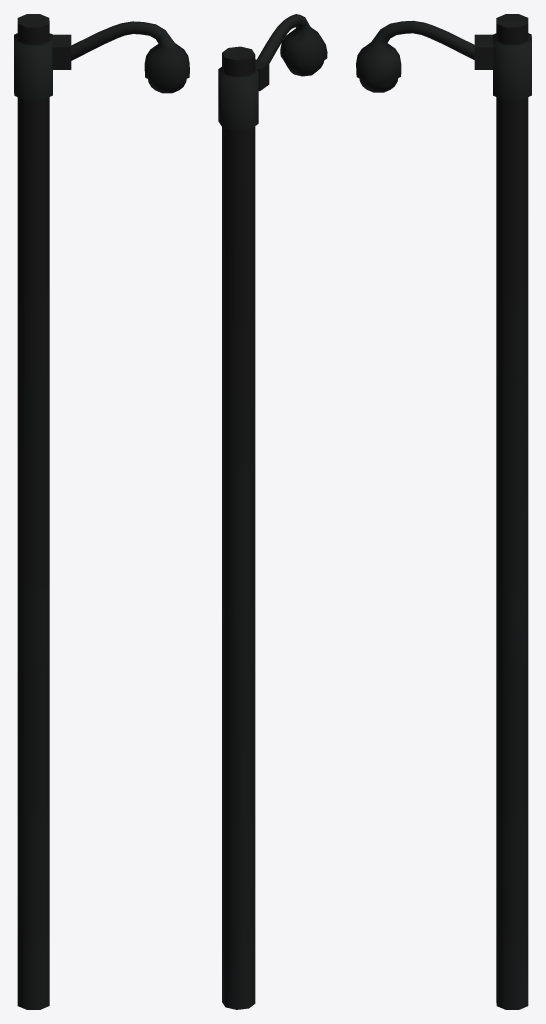
The model's file is Camera.obj.
The picture shows the model from 3 angles, left to right: view 1: azimuth 90°, elevation 25°; view 2: azimuth 150°, elevation 25°; view 3: azimuth 270°, elevation 25°; orthographic projection. The views are drawn at different scales.
Visible parts, largest first — view 1: Light-01; view 2: Light-01; view 3: Light-01.
Boxes of the visible parts, bbox=[...] form: Light-01: bbox=[14, 14, 189, 1009]; Light-01: bbox=[218, 14, 327, 1009]; Light-01: bbox=[356, 14, 531, 1009].
Size of the model in its own units: 0.2331 by 5.51 by 0.8935.
